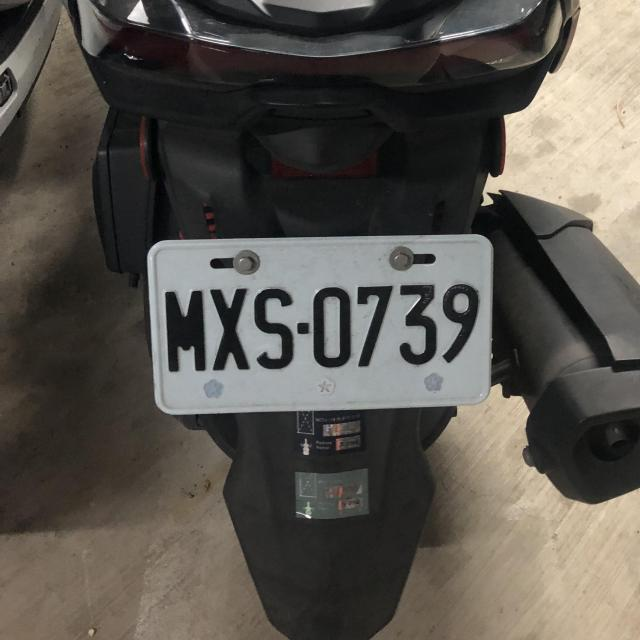W: (143, 233, 498, 417)
